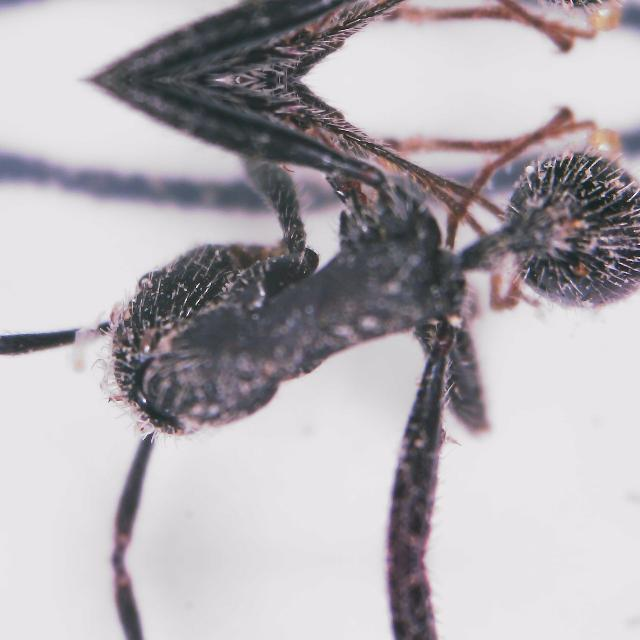Apheanogaster: (2, 80, 620, 542)
